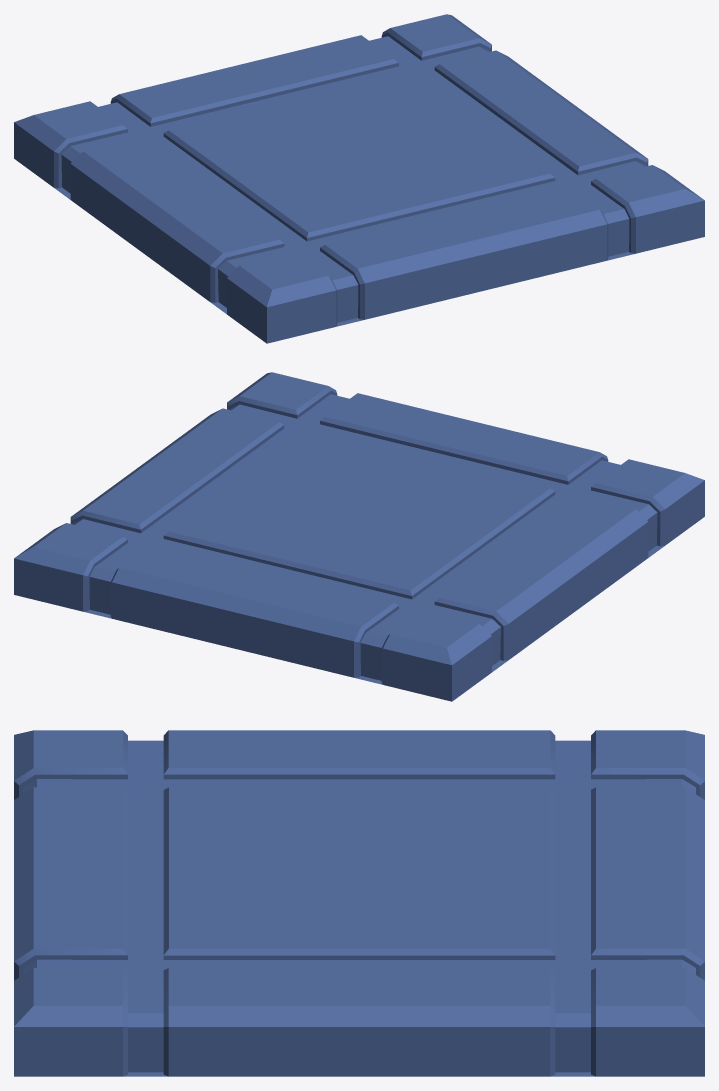
The model's file is Floor_01.fbx.
3 views of the same model, one above another, from view 1: azimuth 30°, elevation 25°; view 2: azimuth 150°, elevation 25°; view 3: azimuth 270°, elevation 25° (orthographic). The views are drawn at different scales.
Parts seen in each view (by area): view 1: Floor_01; view 2: Floor_01; view 3: Floor_01.
Boxes of the visible parts, bbox=[...] form: Floor_01: bbox=[14, 14, 704, 343]; Floor_01: bbox=[14, 372, 704, 701]; Floor_01: bbox=[14, 730, 704, 1076].
Bounding box in the file's own units: 160 × 16 × 160.
